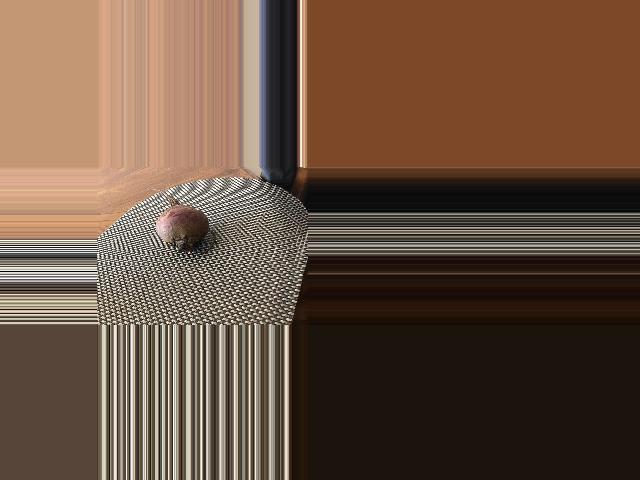beet: (147, 189, 216, 254)
